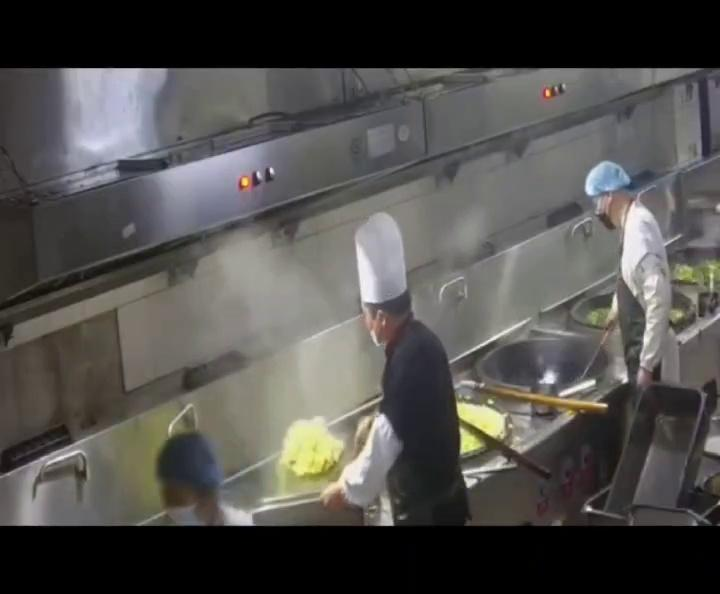mask: (362, 306, 391, 351)
